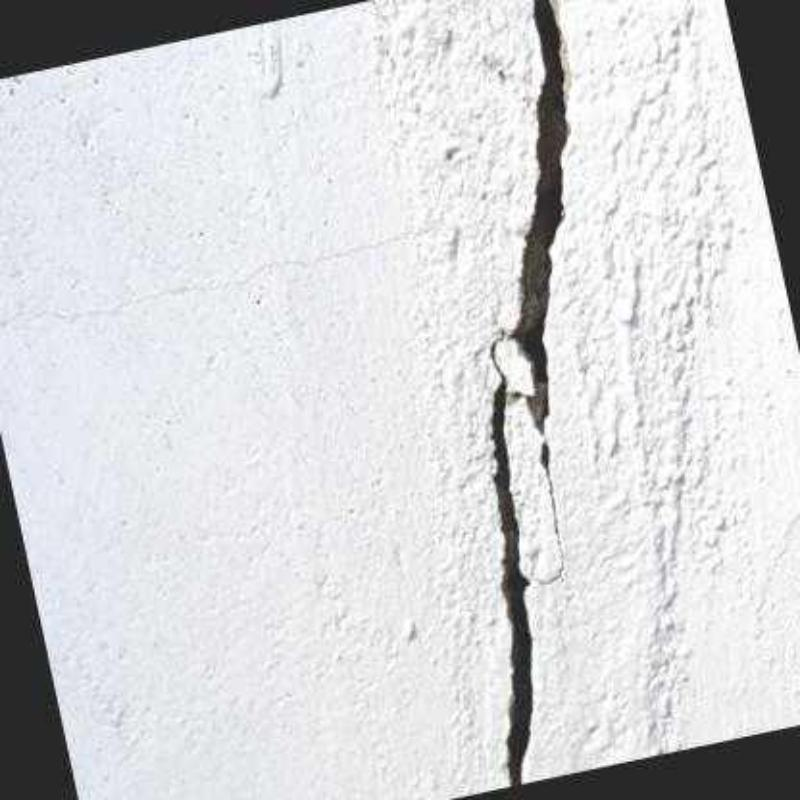crack: (490, 1, 571, 788), (506, 397, 559, 581)
